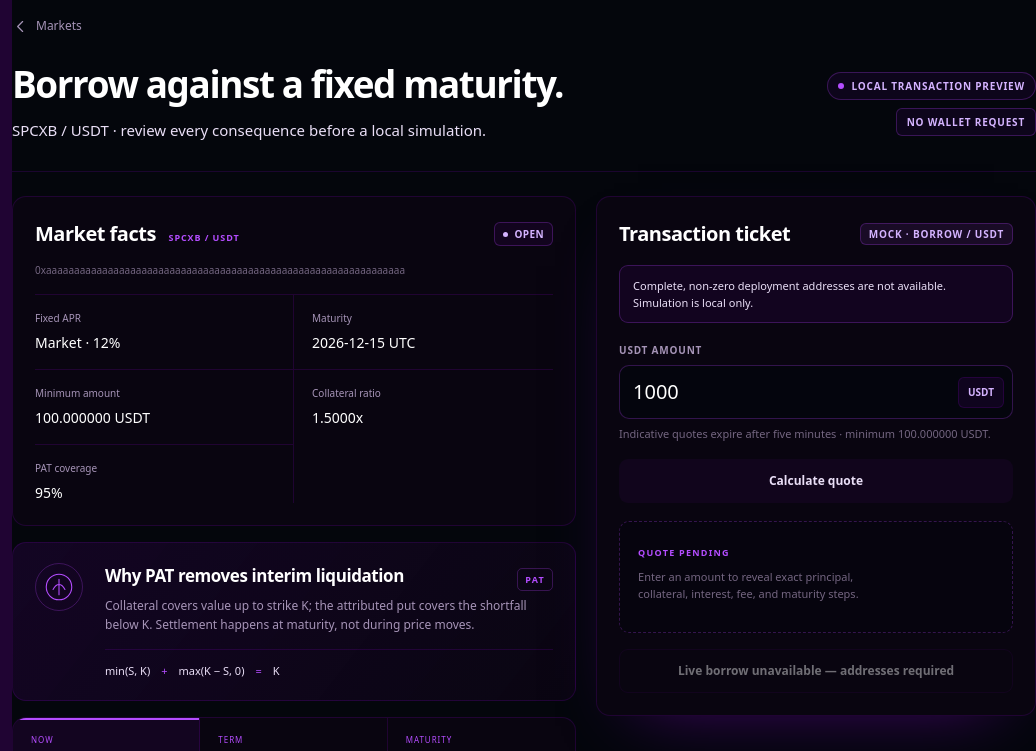
it: CreditFlow › renders tokenized-stock and USDT terms from the selected market
Expected: the field labelled "USDT amount" is shown, top-left (620, 366), bottom-right (958, 418)
Expected: the text "MOCK · BORROW / USDT" is shown, top-left (860, 223), bottom-right (1013, 245)
Click the button "Calculate quote".
click(816, 481)  # box top-left (619, 459), bottom-right (1013, 503)
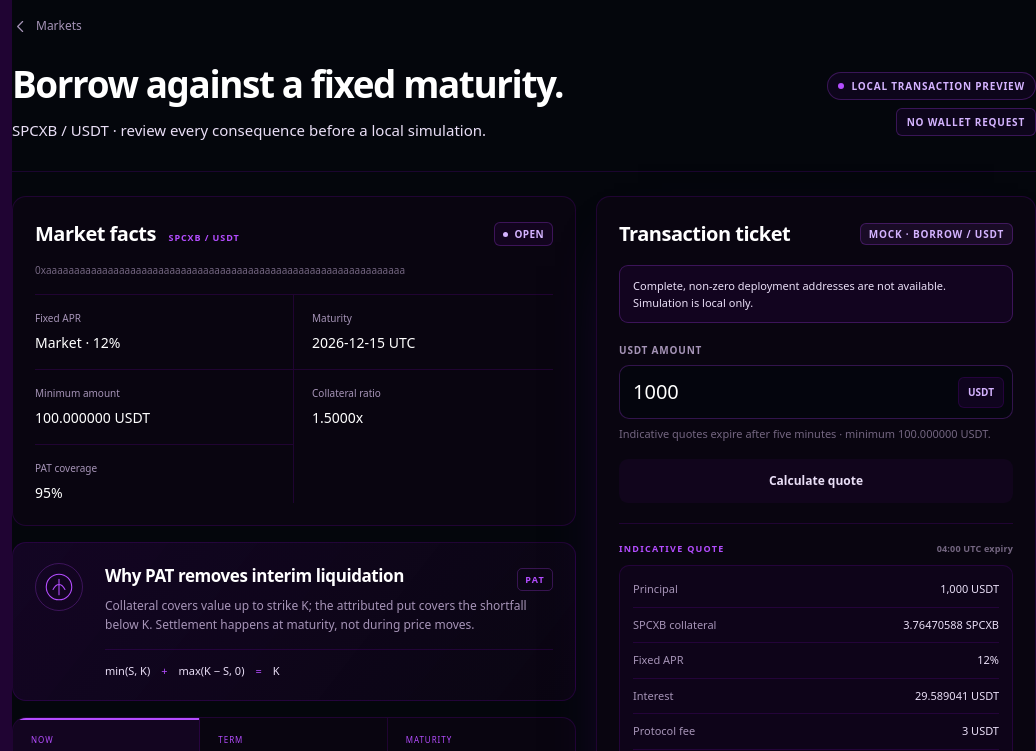
Expected: the text "3.76470588 SPCXB" is shown, top-left (903, 617), bottom-right (999, 633)
